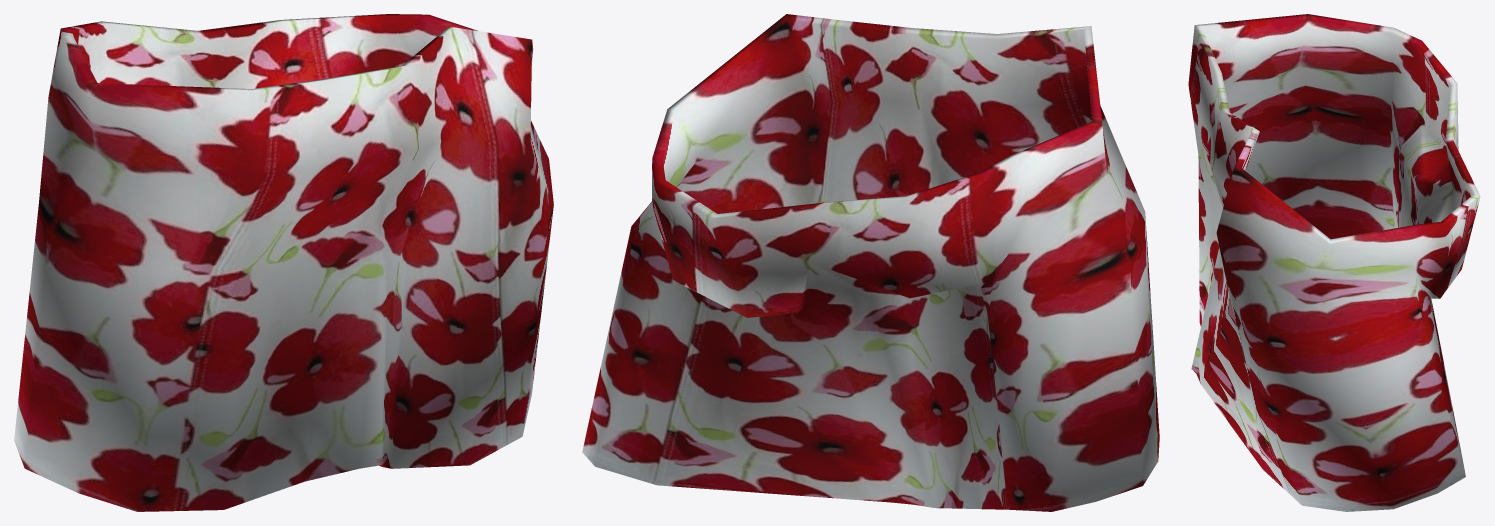
Rendered from Bottom6.fbx.
3 views of the same model, side by side, from view 1: azimuth 30°, elevation 25°; view 2: azimuth 150°, elevation 25°; view 3: azimuth 270°, elevation 25° (orthographic). The views are drawn at different scales.
Visible parts, largest first — view 1: F.Bottom.Short.001; view 2: F.Bottom.Short.001; view 3: F.Bottom.Short.001.
Boxes of the visible parts, x1,y1,x2,y2 form: F.Bottom.Short.001: [14, 14, 553, 511]; F.Bottom.Short.001: [582, 14, 1159, 511]; F.Bottom.Short.001: [1188, 14, 1480, 511].
Size of the model in its own units: 384 by 321 by 238.
